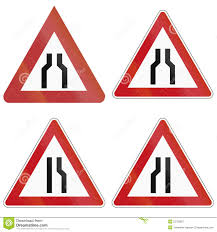Narrow_road: (2, 4, 108, 106), (113, 5, 217, 105), (4, 115, 109, 212), (112, 117, 215, 211)
